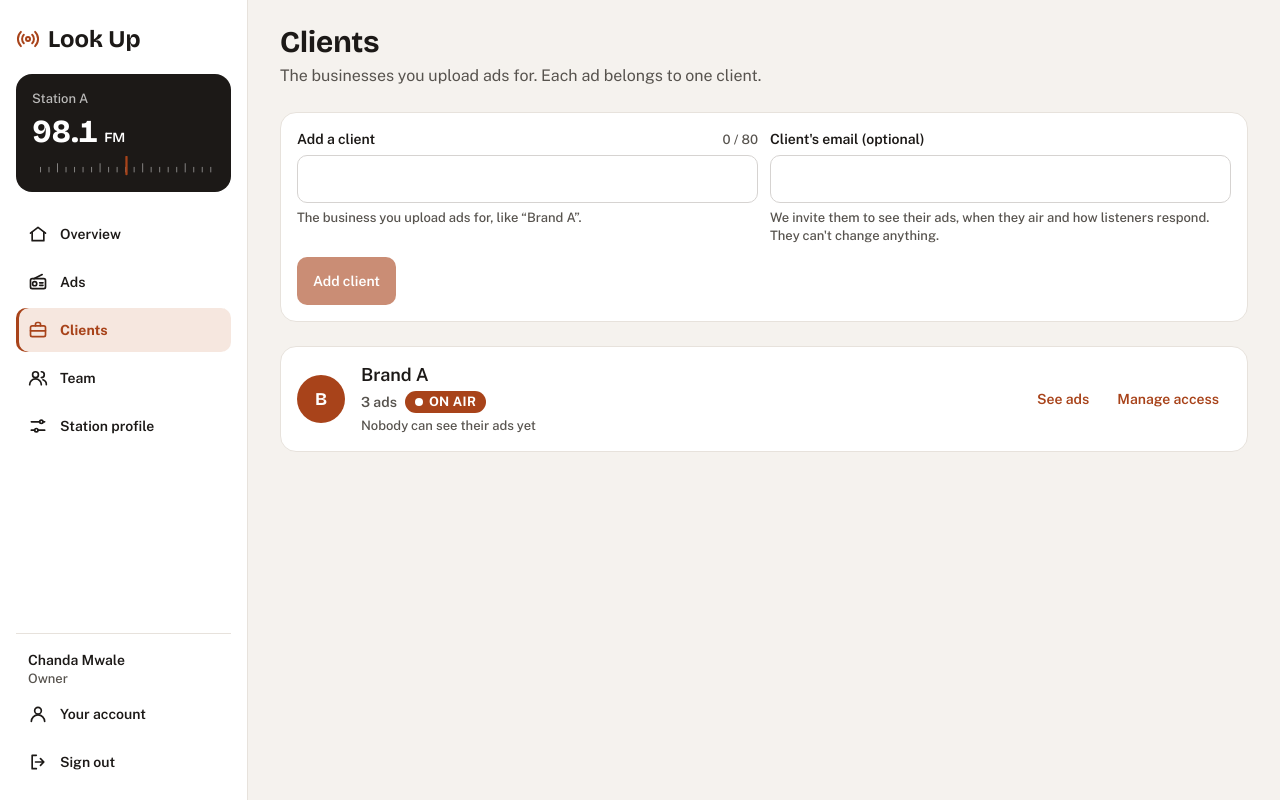
Test: Clients › adds a client, refreshes the list, clears the box and confirms
Check: the text "Brand A" is shown, box [361,364,429,385]
Type "  Brand C  " into the field labelled "Add a client" at (528, 179), box [297,155,758,203]
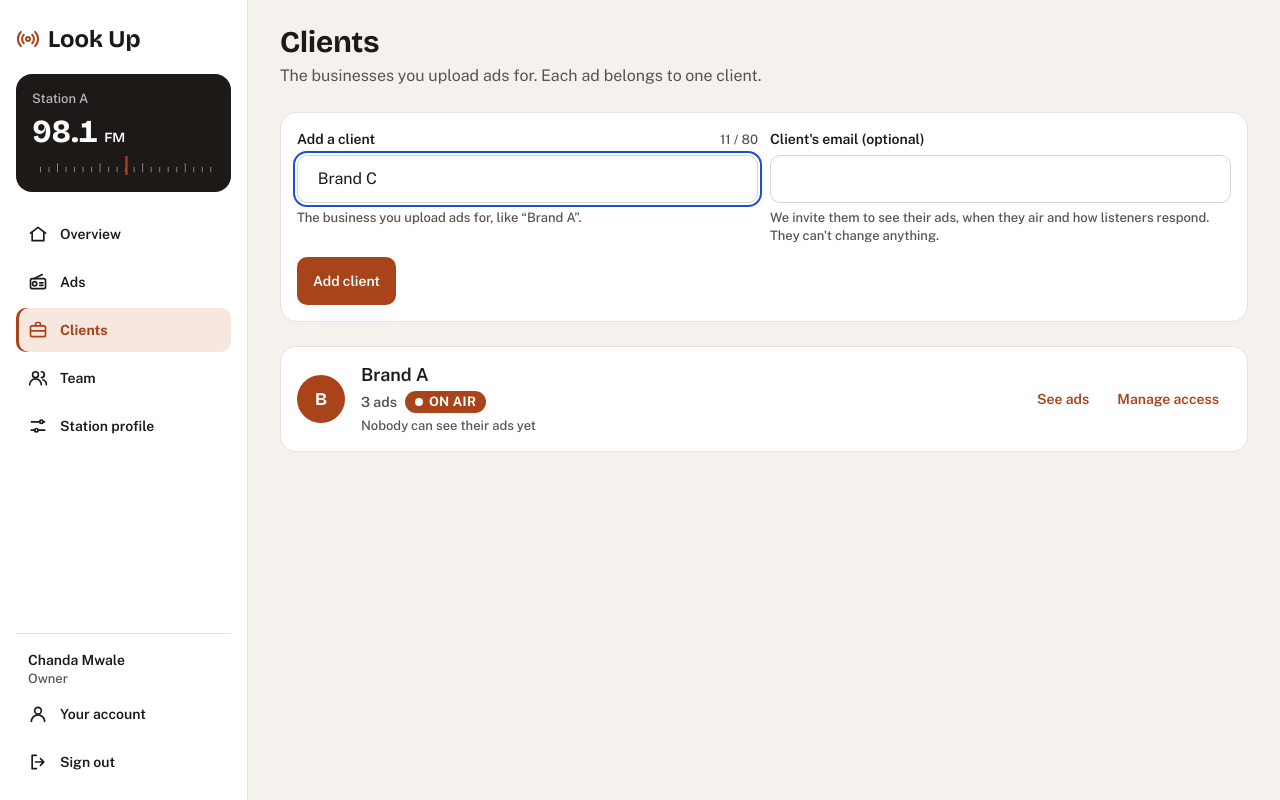
Check: the text "11 / 80" is shown, box [720,131,758,149]
Click the button "Add client" at (346, 281), box [297,257,396,305]
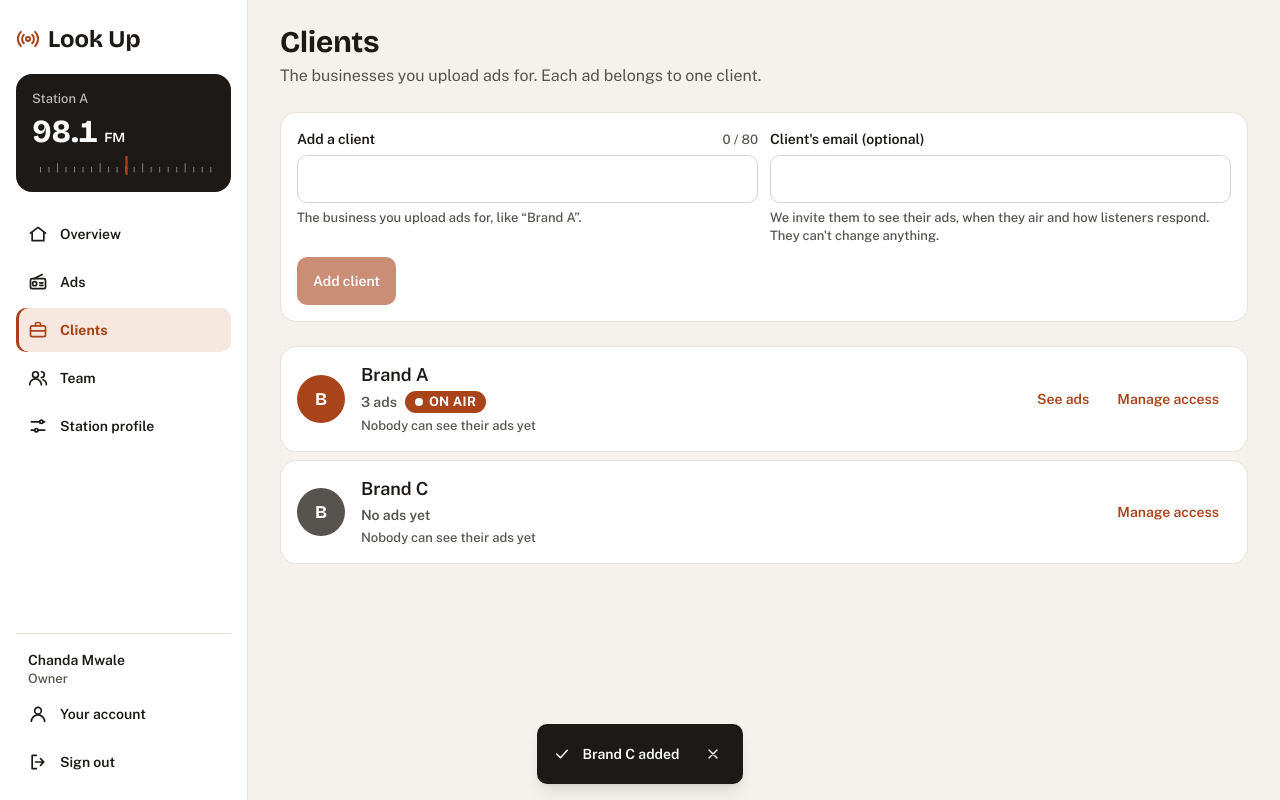
Check: the text "Brand C" is shown, box [361,478,429,499]
Check: the field labelled "Add a client" is empty, box [297,155,758,203]
Check: the text "Brand C added" is shown, box [582,744,680,764]
